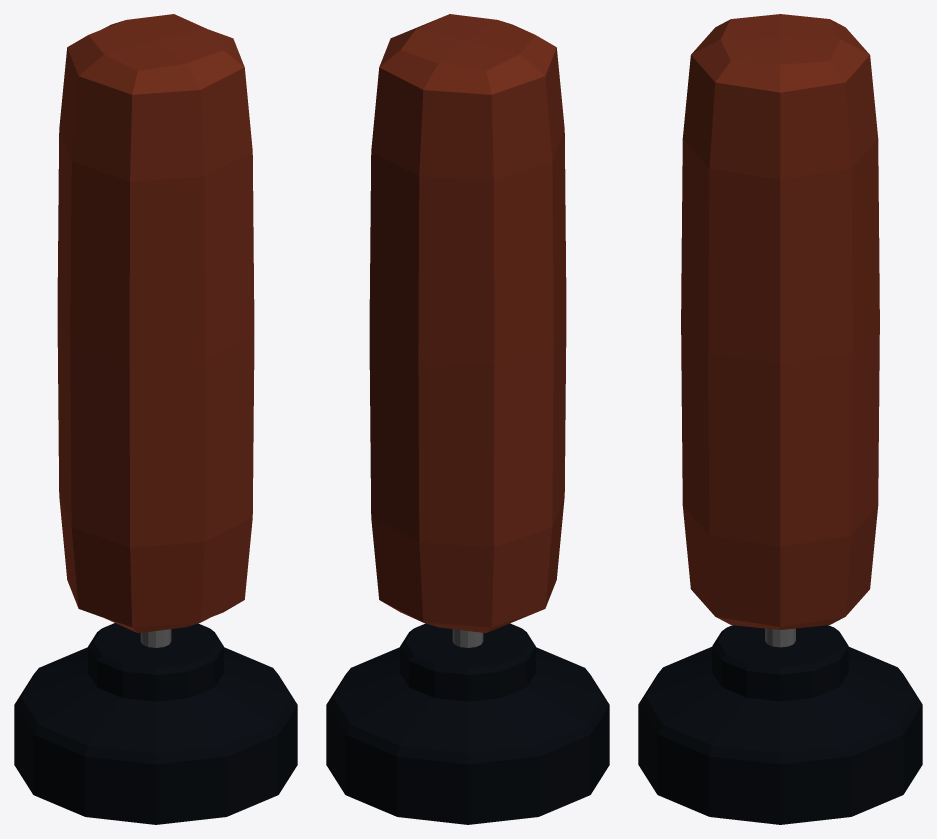
Rendered from PunchingBag1.glb.
The picture shows the model from 3 angles, left to right: view 1: azimuth 30°, elevation 25°; view 2: azimuth 150°, elevation 25°; view 3: azimuth 270°, elevation 25°; orthographic projection.
Visible parts, largest first — view 1: PunchingBag1; view 2: PunchingBag1; view 3: PunchingBag1.
Part boxes in pixels (x1,y1,x2,y2): PunchingBag1: [14, 14, 297, 824]; PunchingBag1: [326, 14, 609, 824]; PunchingBag1: [638, 14, 922, 824].
Bounding box in the file's own units: 0.6433 × 1.82 × 0.6433.
